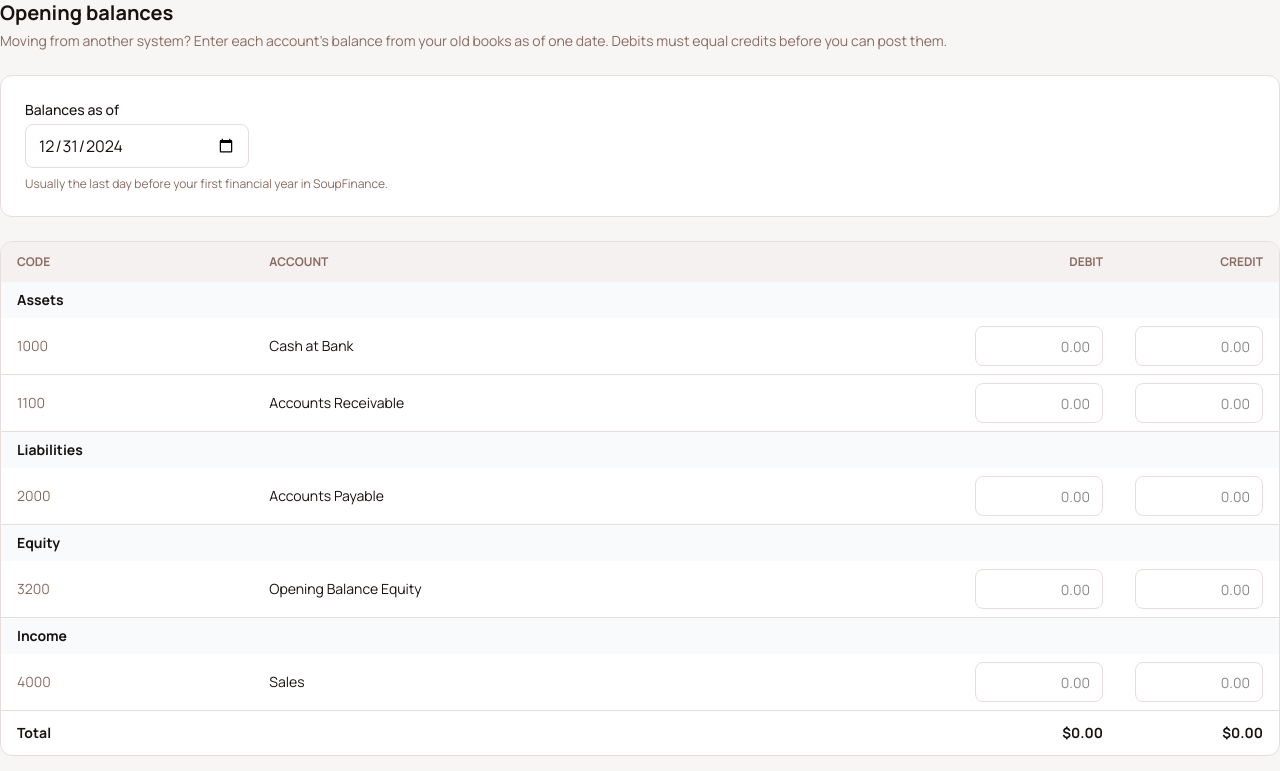
OpeningBalancesPage › blocks an unbalanced grid, balances it into Opening Balance Equity, and posts the lines
Expected: the date field with test id "opening-balances-date-input" holds "2024-12-31", x1=25 y1=124 x2=249 y2=168
Step 1. Type "1,000" into the field with test id "opening-balance-debit-cash" → (1039, 346), box x1=975 y1=326 x2=1103 y2=366
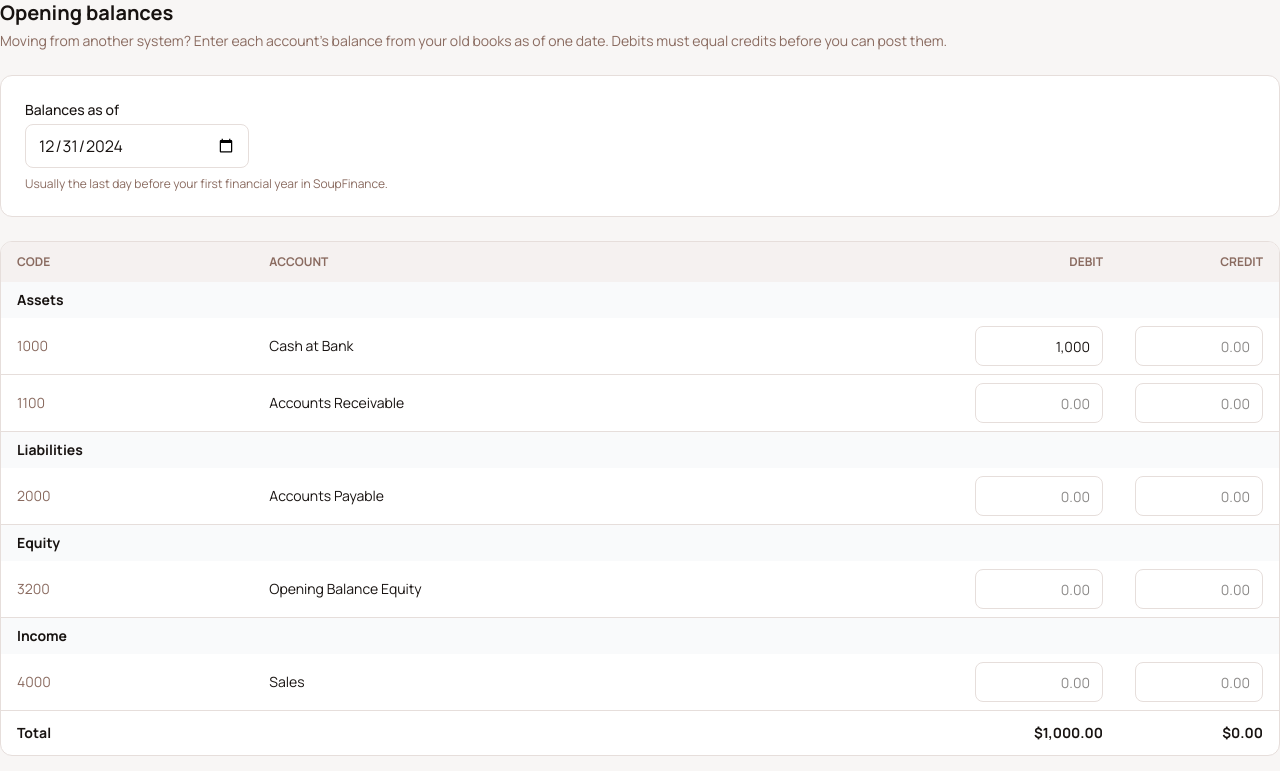
Step 2. Type "500" into the field with test id "opening-balance-debit-ar" → (1039, 403), box x1=975 y1=383 x2=1103 y2=423
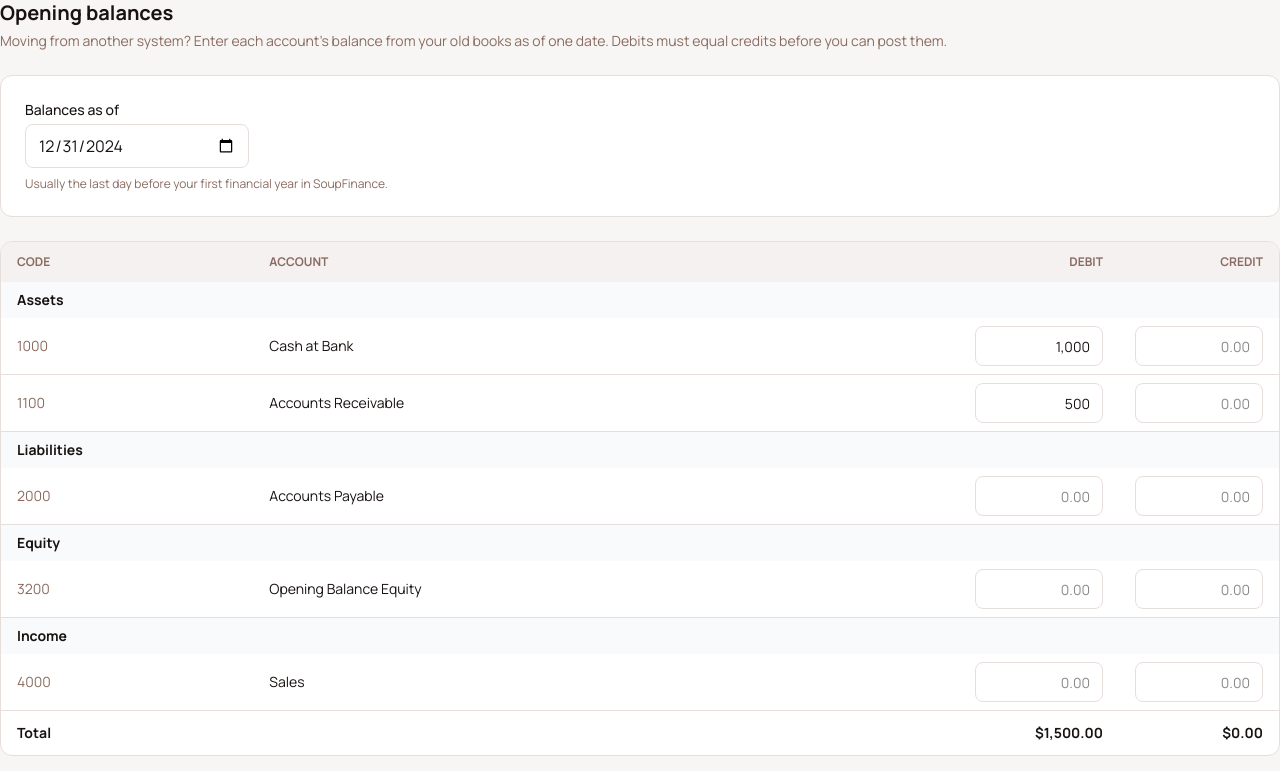
Step 3. Type "900" into the field with test id "opening-balance-credit-ap" → (1199, 496), box x1=1135 y1=476 x2=1263 y2=516
(page scrolled)
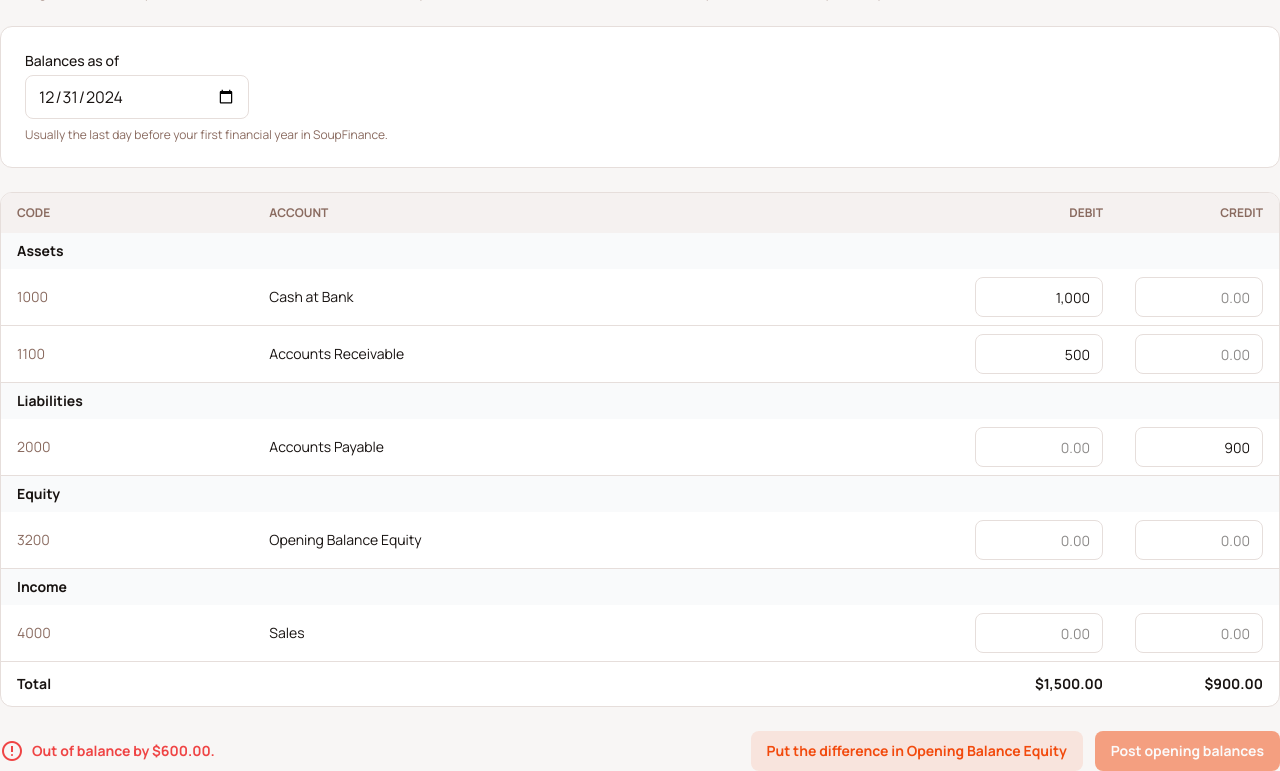
Expected: the button with test id "opening-balances-submit" is disabled, x1=1095 y1=731 x2=1279 y2=770
Expected: the element with test id "opening-balances-balance-status" reads "Out of balance by $600.00.", x1=32 y1=741 x2=215 y2=760
Step 4. Click the button with test id "opening-balances-plug-button" → (917, 751), box x1=750 y1=731 x2=1083 y2=770
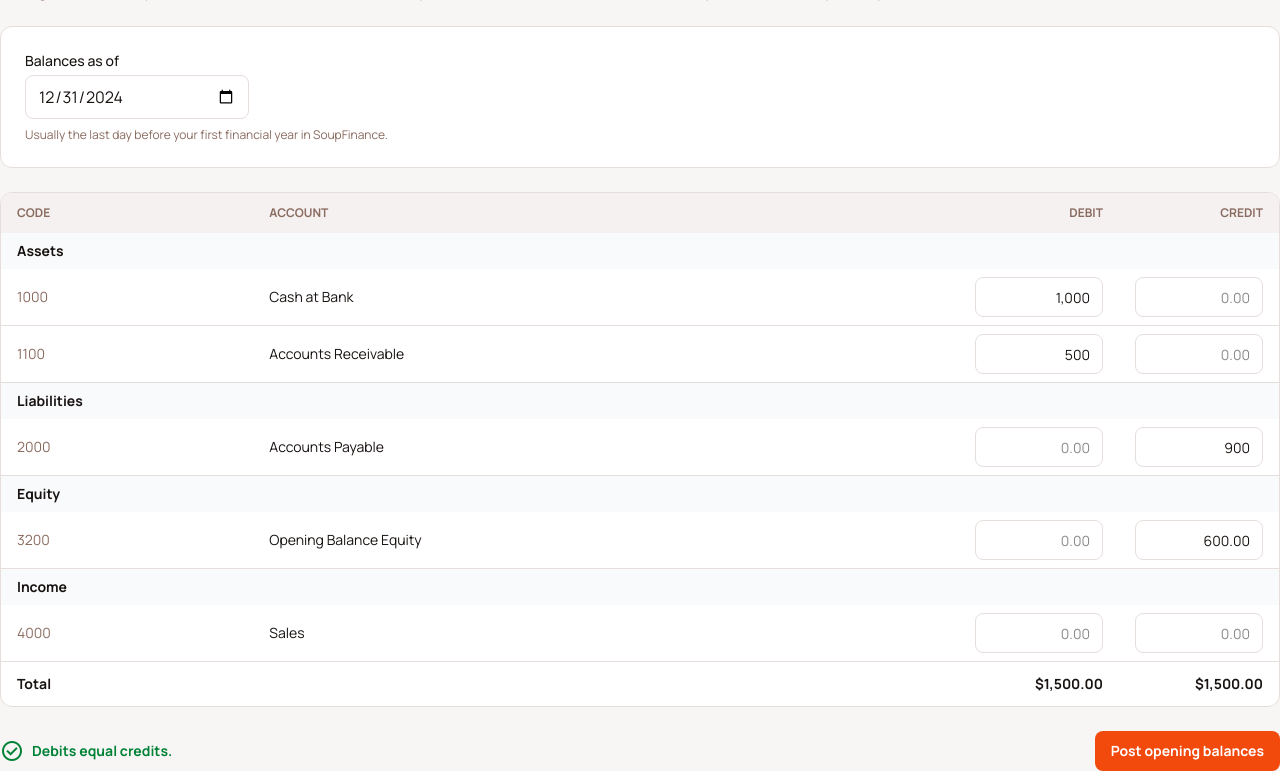
Expected: the cell with test id "opening-balances-total-debit" shows "1,500.00", x1=1035 y1=674 x2=1103 y2=693
Expected: the field with test id "opening-balance-credit-obe" holds "600.00", x1=1135 y1=520 x2=1263 y2=560
Expected: the element with test id "opening-balances-balance-status" shows "Debits equal credits", x1=32 y1=741 x2=172 y2=760
Step 5. Click the button with test id "opening-balances-submit" → (1187, 751), box x1=1095 y1=731 x2=1279 y2=770
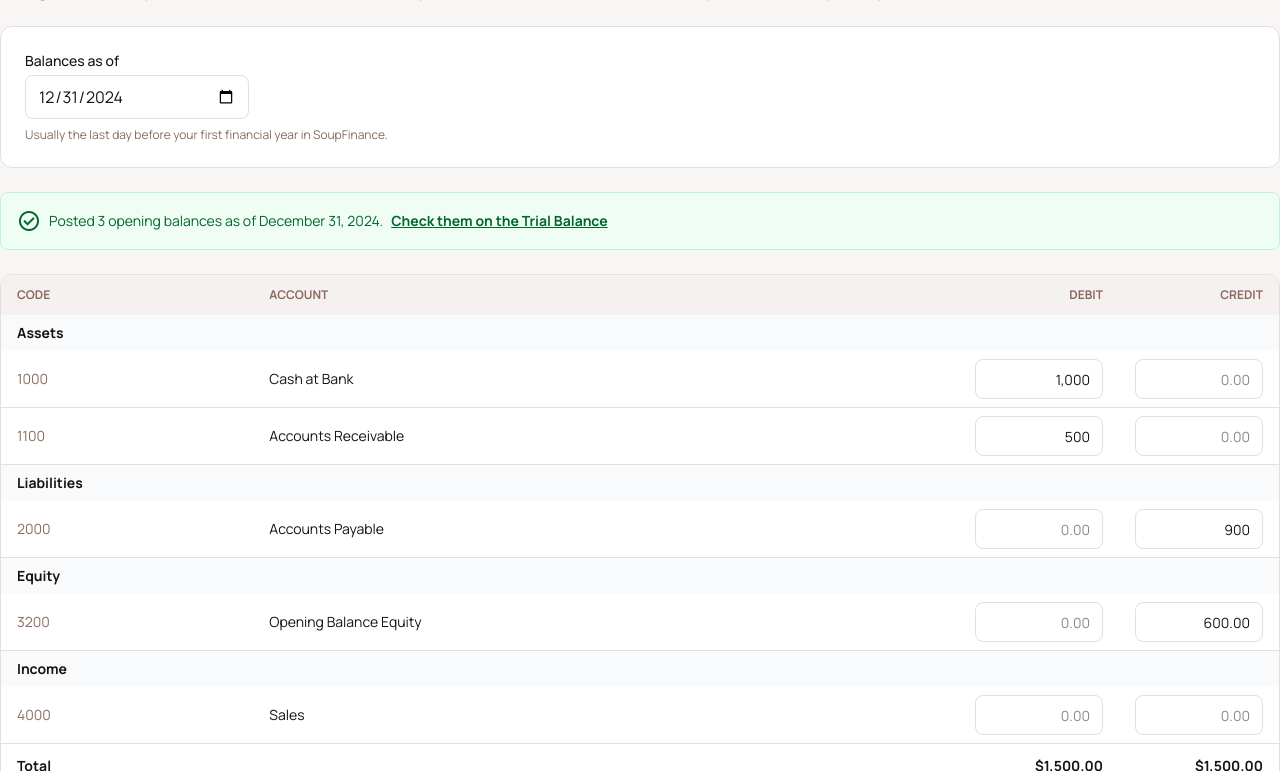
Expected: the message with test id "opening-balances-success" shows "Posted 3 opening balances as of December 31, 2024", x1=0 y1=192 x2=1279 y2=250
